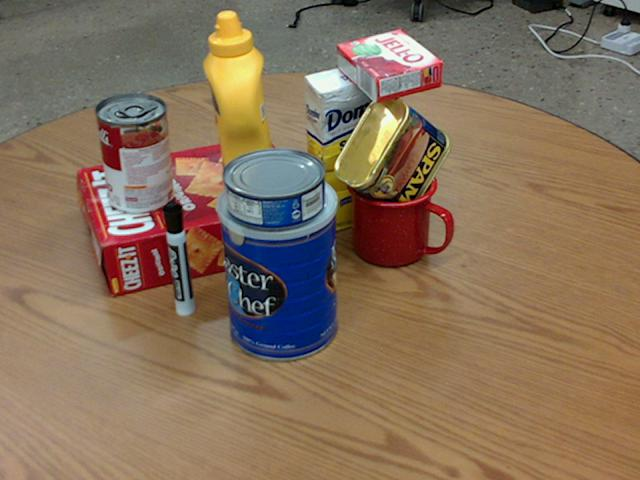cracker_box: (79, 138, 311, 296)
gelatin_box: (336, 30, 442, 102)
large_marker: (164, 201, 195, 316)
master_chef_can: (214, 167, 337, 359)
mug: (348, 159, 454, 267)
mustard_bottle: (203, 10, 279, 214)
potted_meat_can: (332, 94, 450, 219)
sugar_box: (305, 58, 400, 236)
tomato_soup_can: (94, 93, 172, 213)
tuna_fish_can: (221, 146, 325, 228)
